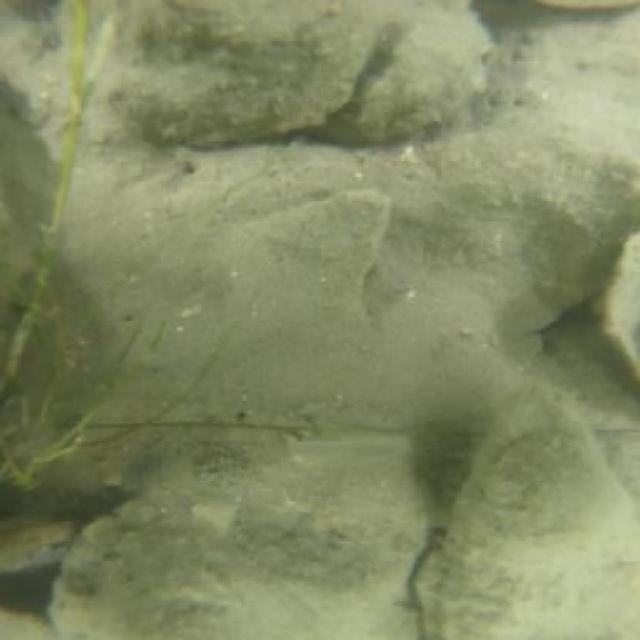Oyster-Closed: (412, 399, 640, 640)
Oyster-Indeterminate: (40, 392, 440, 638), (91, 0, 372, 150), (345, 13, 484, 135), (608, 232, 640, 376)
